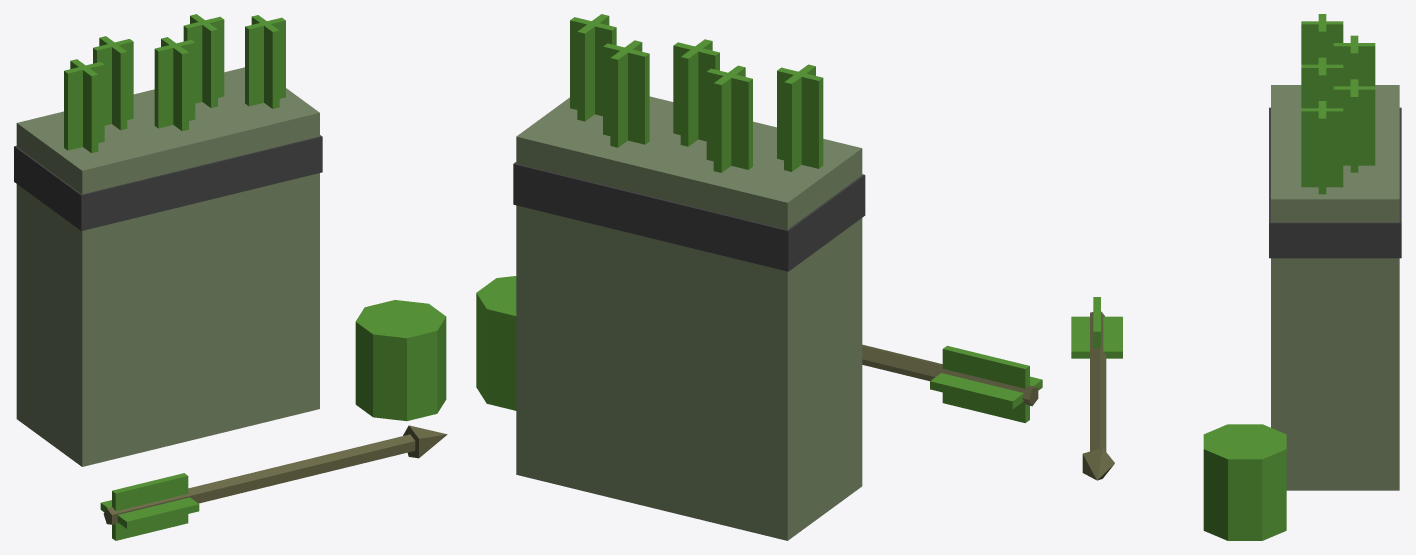
Rendered from ce_ammo2_boltjar_venom_c.obj.
3 views of the same model, side by side, from view 1: azimuth 30°, elevation 25°; view 2: azimuth 150°, elevation 25°; view 3: azimuth 270°, elevation 25° (orthographic). The views are drawn at different scales.
Parts seen in each view (by area): view 1: ce_ammo2_boltjar_venom_c_0, ce_ammo2_boltjar_venom_c_1, ce_ammo2_boltjar_venom_c_12, ce_ammo2_boltjar_venom_c_13, ce_ammo2_boltjar_venom_c_16, ce_ammo2_boltjar_venom_c_6, ce_ammo2_boltjar_venom_c_2, ce_ammo2_boltjar_venom_c_10, ce_ammo2_boltjar_venom_c_8, ce_ammo2_boltjar_venom_c_4, ce_ammo2_boltjar_venom_c_11, ce_ammo2_boltjar_venom_c_7 (+5 smaller); view 2: ce_ammo2_boltjar_venom_c_0, ce_ammo2_boltjar_venom_c_1, ce_ammo2_boltjar_venom_c_12, ce_ammo2_boltjar_venom_c_16, ce_ammo2_boltjar_venom_c_2, ce_ammo2_boltjar_venom_c_4, ce_ammo2_boltjar_venom_c_8, ce_ammo2_boltjar_venom_c_13, ce_ammo2_boltjar_venom_c_6, ce_ammo2_boltjar_venom_c_7, ce_ammo2_boltjar_venom_c_5, ce_ammo2_boltjar_venom_c_10 (+4 smaller); view 3: ce_ammo2_boltjar_venom_c_0, ce_ammo2_boltjar_venom_c_12, ce_ammo2_boltjar_venom_c_1, ce_ammo2_boltjar_venom_c_11, ce_ammo2_boltjar_venom_c_9, ce_ammo2_boltjar_venom_c_13, ce_ammo2_boltjar_venom_c_15, ce_ammo2_boltjar_venom_c_7, ce_ammo2_boltjar_venom_c_3, ce_ammo2_boltjar_venom_c_5, ce_ammo2_boltjar_venom_c_8, ce_ammo2_boltjar_venom_c_10 (+3 smaller).
Part boxes in pixels (x1=…): ce_ammo2_boltjar_venom_c_0: x1=16, y1=67, x2=319, y2=466; ce_ammo2_boltjar_venom_c_1: x1=14, y1=135, x2=322, y2=230; ce_ammo2_boltjar_venom_c_12: x1=355, y1=300, x2=446, y2=421; ce_ammo2_boltjar_venom_c_13: x1=103, y1=434, x2=415, y2=524; ce_ammo2_boltjar_venom_c_16: x1=112, y1=473, x2=188, y2=540; ce_ammo2_boltjar_venom_c_6: x1=154, y1=39, x2=195, y2=128; ce_ammo2_boltjar_venom_c_2: x1=64, y1=62, x2=104, y2=150; ce_ammo2_boltjar_venom_c_10: x1=245, y1=17, x2=285, y2=106; ce_ammo2_boltjar_venom_c_8: x1=183, y1=16, x2=224, y2=103; ce_ammo2_boltjar_venom_c_4: x1=93, y1=39, x2=133, y2=125; ce_ammo2_boltjar_venom_c_11: x1=251, y1=15, x2=279, y2=108; ce_ammo2_boltjar_venom_c_7: x1=161, y1=37, x2=188, y2=131; ce_ammo2_boltjar_venom_c_0: x1=516, y1=96, x2=862, y2=540; ce_ammo2_boltjar_venom_c_1: x1=513, y1=162, x2=865, y2=271; ce_ammo2_boltjar_venom_c_12: x1=476, y1=276, x2=516, y2=410; ce_ammo2_boltjar_venom_c_16: x1=942, y1=345, x2=1029, y2=423; ce_ammo2_boltjar_venom_c_2: x1=777, y1=67, x2=823, y2=168; ce_ammo2_boltjar_venom_c_4: x1=706, y1=68, x2=752, y2=169; ce_ammo2_boltjar_venom_c_8: x1=603, y1=43, x2=649, y2=144; ce_ammo2_boltjar_venom_c_13: x1=862, y1=344, x2=1038, y2=406; ce_ammo2_boltjar_venom_c_6: x1=673, y1=42, x2=719, y2=141; ce_ammo2_boltjar_venom_c_7: x1=680, y1=39, x2=712, y2=146; ce_ammo2_boltjar_venom_c_5: x1=713, y1=65, x2=745, y2=172; ce_ammo2_boltjar_venom_c_10: x1=570, y1=17, x2=616, y2=115; ce_ammo2_boltjar_venom_c_0: x1=1271, y1=85, x2=1399, y2=490; ce_ammo2_boltjar_venom_c_12: x1=1203, y1=424, x2=1286, y2=540; ce_ammo2_boltjar_venom_c_1: x1=1269, y1=107, x2=1401, y2=258; ce_ammo2_boltjar_venom_c_11: x1=1301, y1=108, x2=1343, y2=187; ce_ammo2_boltjar_venom_c_9: x1=1333, y1=86, x2=1375, y2=165; ce_ammo2_boltjar_venom_c_13: x1=1090, y1=311, x2=1106, y2=451; ce_ammo2_boltjar_venom_c_15: x1=1071, y1=316, x2=1122, y2=358; ce_ammo2_boltjar_venom_c_7: x1=1301, y1=64, x2=1343, y2=108; ce_ammo2_boltjar_venom_c_3: x1=1301, y1=21, x2=1343, y2=64; ce_ammo2_boltjar_venom_c_5: x1=1333, y1=43, x2=1375, y2=86; ce_ammo2_boltjar_venom_c_8: x1=1350, y1=79, x2=1358, y2=172; ce_ammo2_boltjar_venom_c_10: x1=1318, y1=101, x2=1326, y2=194.
Bounding box in the file's own units: 0.7147 × 0.63 × 0.513.
